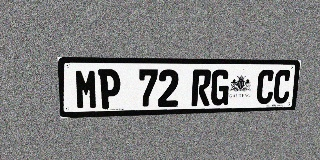2: (158, 69, 179, 107)
7: (137, 69, 158, 108)
C: (272, 70, 292, 104), (256, 70, 275, 104)
G: (210, 70, 230, 106)
M: (74, 69, 98, 110)
P: (98, 69, 121, 109)
R: (191, 69, 212, 106)
